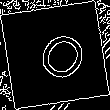O_SW: (23, 22, 87, 88)
